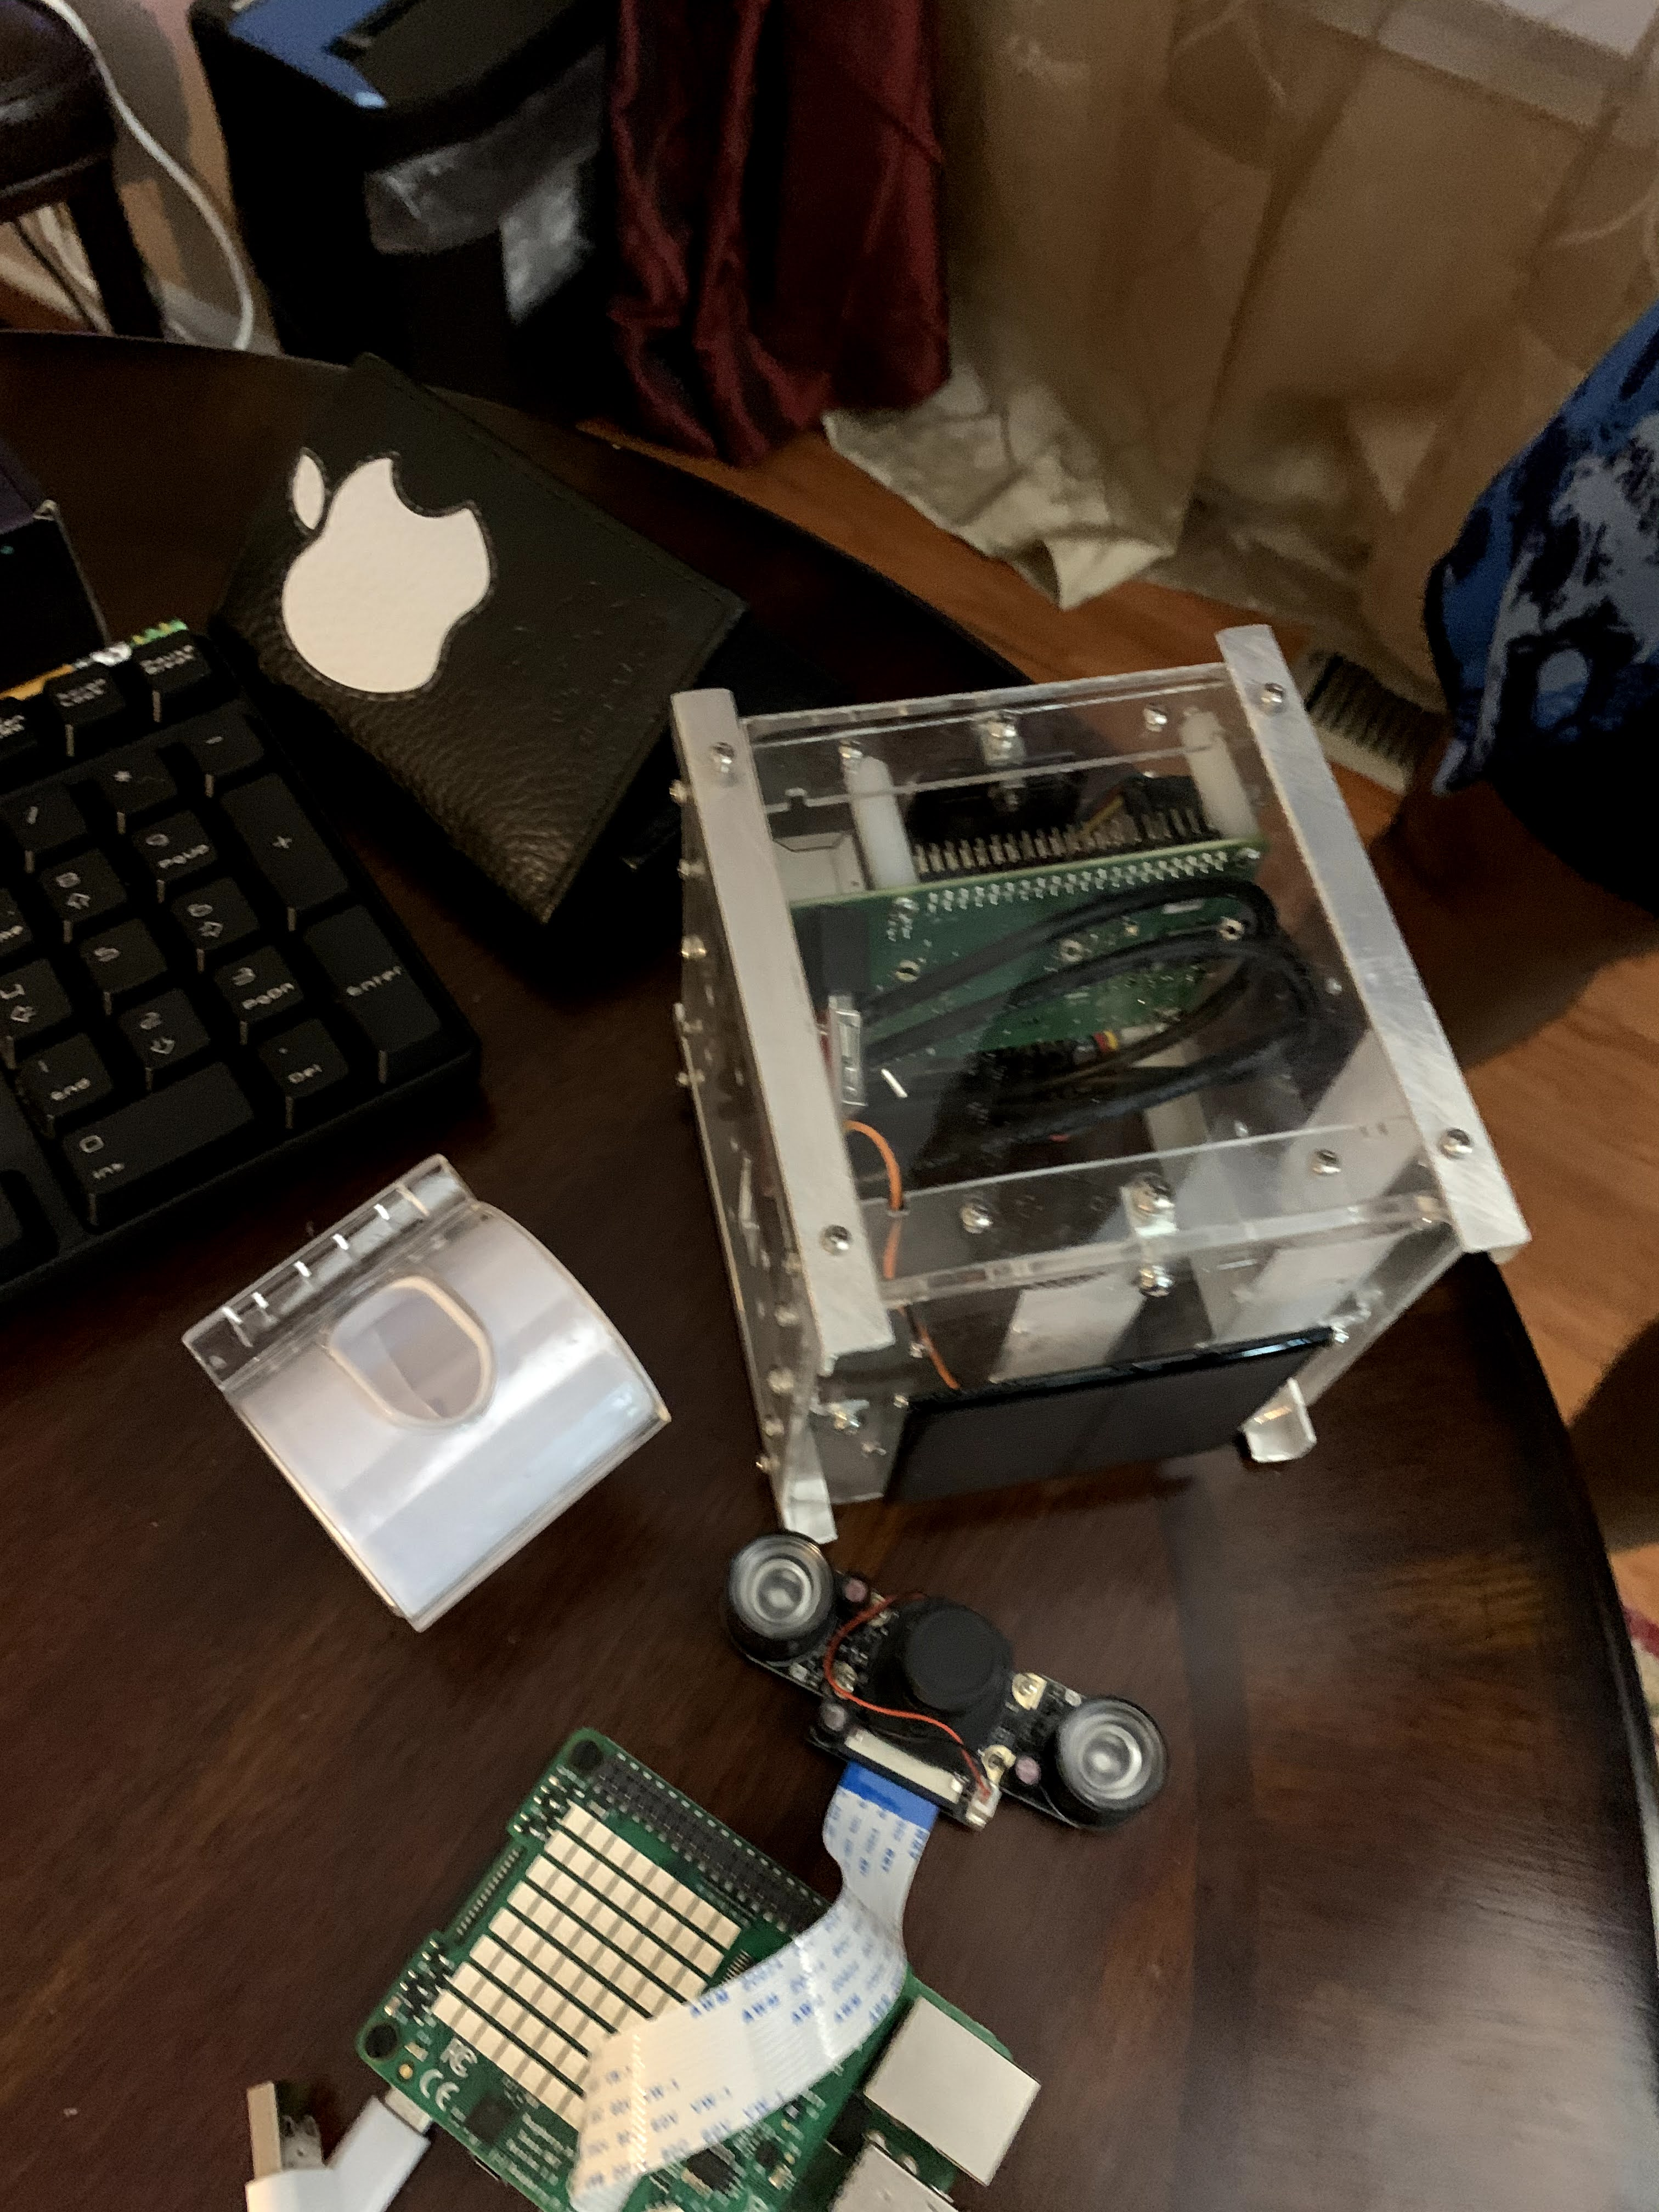Space-debris-cubesat: (640, 615, 1589, 1531)
